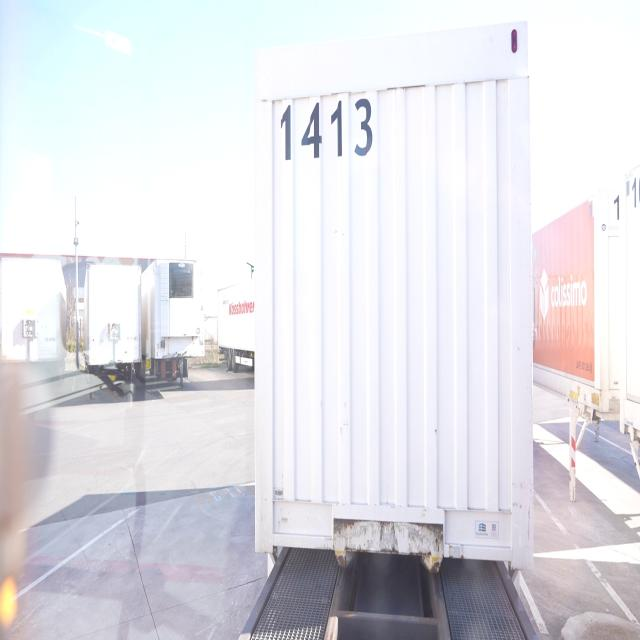Code: (275, 87, 378, 170)
